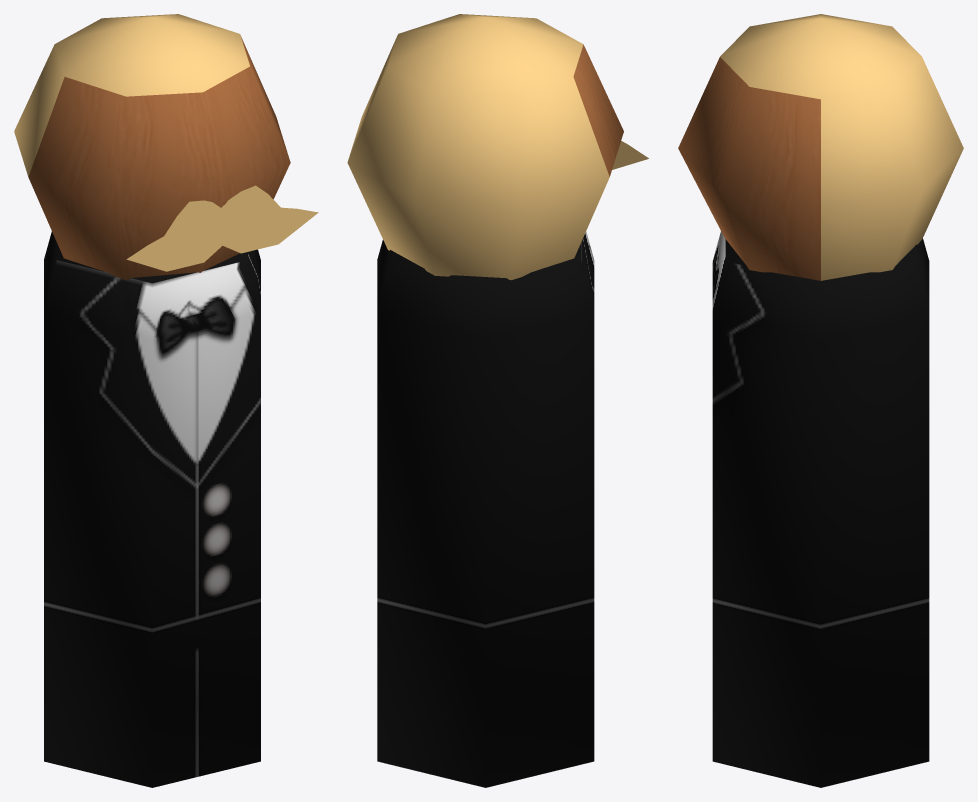
Rendered from Groom_D_2.FBX.
3 views of the same model, side by side, from view 1: azimuth 30°, elevation 25°; view 2: azimuth 150°, elevation 25°; view 3: azimuth 270°, elevation 25° (orthographic).
Visible parts, largest first — view 1: Groom; view 2: Groom; view 3: Groom.
Boxes of the visible parts, x1,y1,x2,y2 form: Groom: (14, 14, 318, 787); Groom: (347, 14, 648, 787); Groom: (678, 14, 963, 787).
Size of the model in its own units: 21.11 by 58.37 by 21.11.
